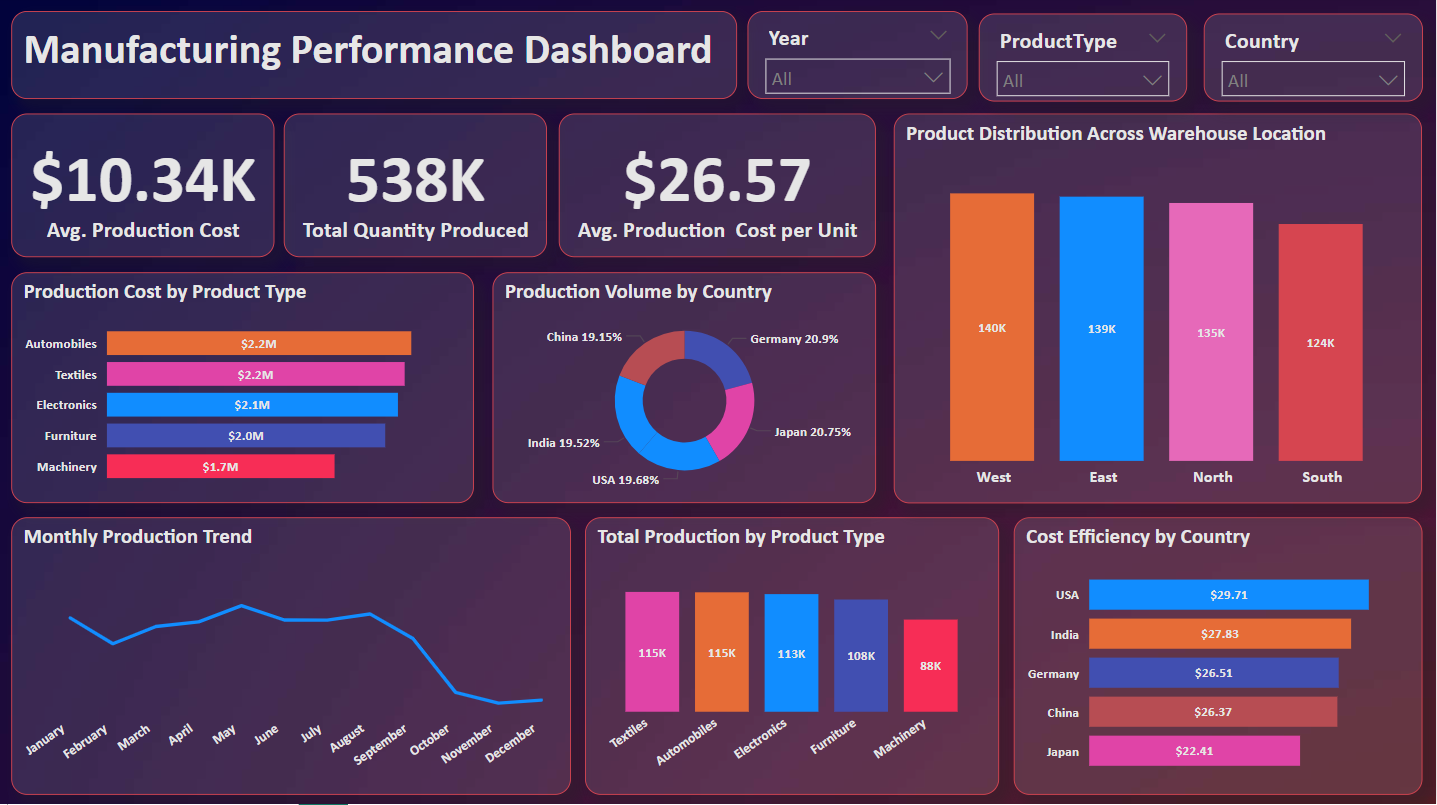

The dashboard page shown, as its layout file describes it:
{"tool":"powerbi","page":{"name":"Product_manufacturing_Dashboard","canvas":[1280,720],"ordinal":0},"visuals":[{"type":"textbox","box":[9.6,13.7,646.3,78.2],"z":0},{"type":"card","title":"uifufuf","fields":{"Values":["Avg(Product_dataset.ProductionCost)"]},"box":[9.6,104.3,234.6,127.6],"z":1000},{"type":"card","title":"uifufuf","fields":{"Values":["Sum(Product_dataset.QuantityProduced)"]},"box":[252.5,104.3,234.6,127.6],"z":2000},{"type":"card","title":"uifufuf","fields":{"Values":["Avg(Product_dataset.CostEfficiency)"]},"box":[498.1,104.3,282.7,127.6],"z":3000},{"type":"clusteredBarChart","title":"Production Cost by Product Type","fields":{"Category":["Product_dataset.ProductType"],"Y":["Sum(Product_dataset.ProductionCost)"]},"box":[9.6,245.6,411.7,205.8],"z":4000},{"type":"donutChart","title":"Production Volume by Country","fields":{"Category":["Product_dataset.CountryOfOrigin"],"Y":["Sum(Product_dataset.QuantityProduced)"]},"box":[439.1,245.6,341.7,205.8],"z":5000},{"type":"lineChart","title":"Monthly Production Trend ","fields":{"Category":["Product_dataset.ProductionDate.Variation.Date Hierarchy.Month"],"Y":["Sum(Product_dataset.QuantityProduced)"]},"box":[9.6,463.8,498.1,247],"z":6000},{"type":"columnChart","title":"Total Production by Product Type","fields":{"Category":["Product_dataset.ProductType"],"Y":["Sum(Product_dataset.QuantityProduced)"]},"box":[521.4,463.8,369.1,247],"z":7000},{"type":"clusteredBarChart","title":"Cost Efficiency by Country","fields":{"Category":["Product_dataset.CountryOfOrigin"],"Y":["Avg(Product_dataset.CostEfficiency)"]},"box":[902.9,463.8,363.6,247],"z":8000},{"type":"columnChart","title":"Product Distribution Across Warehouse Location","fields":{"Category":["Product_dataset.WarehouseLocation"],"Y":["Sum(Product_dataset.QuantityProduced)"]},"box":[795.9,104.3,470.7,347.2],"z":9000},{"type":"slicer","fields":{"Values":["Product_dataset.ProductionDate.Variation.Date Hierarchy.Year"]},"box":[665.5,13.7,196.2,78.2],"z":10000},{"type":"slicer","fields":{"Values":["Product_dataset.ProductType"]},"box":[871.4,15.1,185.2,78.2],"z":11000},{"type":"slicer","fields":{"Values":["Product_dataset.CountryOfOrigin"]},"box":[1071.7,15.1,194.9,78.2],"z":12000}]}

Visuals, with their boxes in screenshot pixels (x1, y1, x2, y2), scaled from the page's 1280x720 canvas onto the 1437x805 screenshot:
textbox: BBox(11, 15, 736, 103)
"uifufuf" card: BBox(11, 117, 274, 259)
"uifufuf" card: BBox(283, 117, 547, 259)
"uifufuf" card: BBox(559, 117, 877, 259)
"Production Cost by Product Type" clusteredBarChart: BBox(11, 275, 473, 505)
"Production Volume by Country" donutChart: BBox(493, 275, 877, 505)
"Monthly Production Trend " lineChart: BBox(11, 519, 570, 795)
"Total Production by Product Type" columnChart: BBox(585, 519, 1000, 795)
"Cost Efficiency by Country" clusteredBarChart: BBox(1014, 519, 1422, 795)
"Product Distribution Across Warehouse Location" columnChart: BBox(894, 117, 1422, 505)
slicer - Product_dataset.ProductionDate.Variation.Date Hierarchy.Year: BBox(747, 15, 967, 103)
slicer - Product_dataset.ProductType: BBox(978, 17, 1186, 104)
slicer - Product_dataset.CountryOfOrigin: BBox(1203, 17, 1422, 104)
